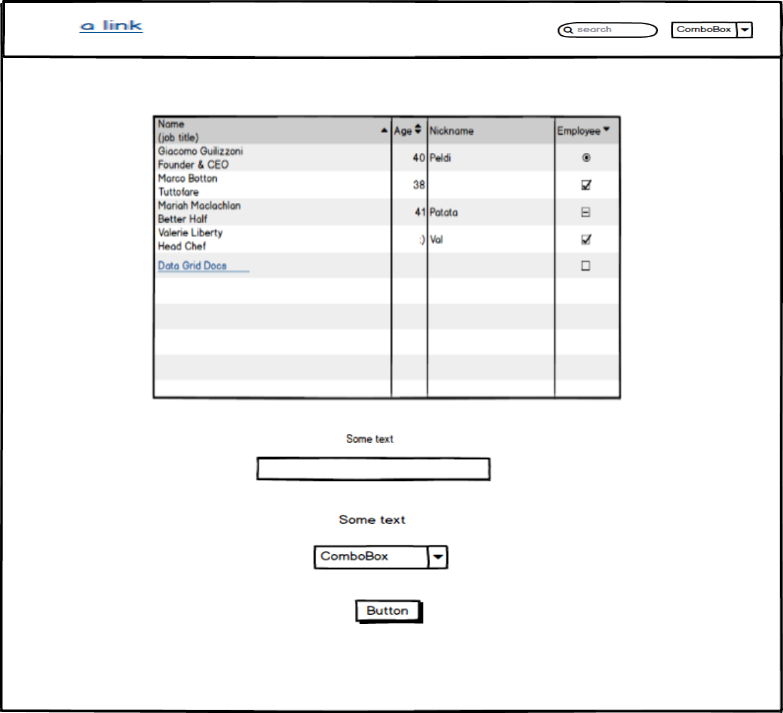button: (349, 595, 428, 626)
input: (253, 450, 496, 486)
label: (339, 508, 408, 530), (340, 433, 397, 446)
navlink: (65, 14, 153, 37)
search: (551, 19, 661, 43)
select_box: (310, 543, 453, 573), (666, 16, 757, 45)
table: (148, 110, 626, 404)
